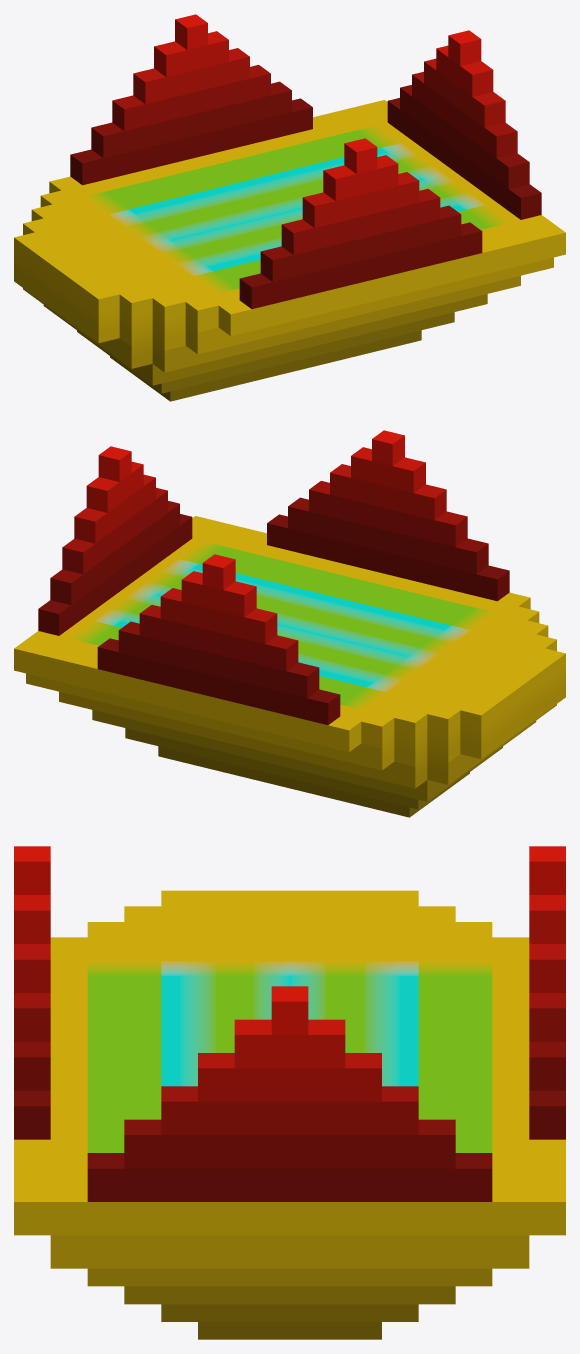
Rendered from Vehicle_29.fbx.
3 renders of one model, top to bottom at view 1: azimuth 30°, elevation 25°; view 2: azimuth 150°, elevation 25°; view 3: azimuth 270°, elevation 25°, orthographic. The views are drawn at different scales.
Parts seen in each view (by area): view 1: Vehicle_29; view 2: Vehicle_29; view 3: Vehicle_29.
Part boxes in pixels (box(x1,y1,x2,y2)): Vehicle_29: box(14, 14, 565, 401); Vehicle_29: box(14, 430, 565, 817); Vehicle_29: box(14, 846, 565, 1339).
Bounding box in the file's own units: 20 × 12 × 15.
Materials: 1 (1 with a texture image).
